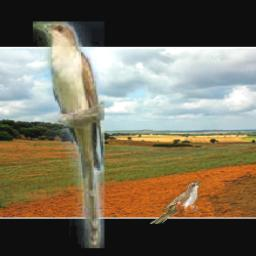Cuckoo: (34, 21, 106, 248), (149, 181, 201, 224)
